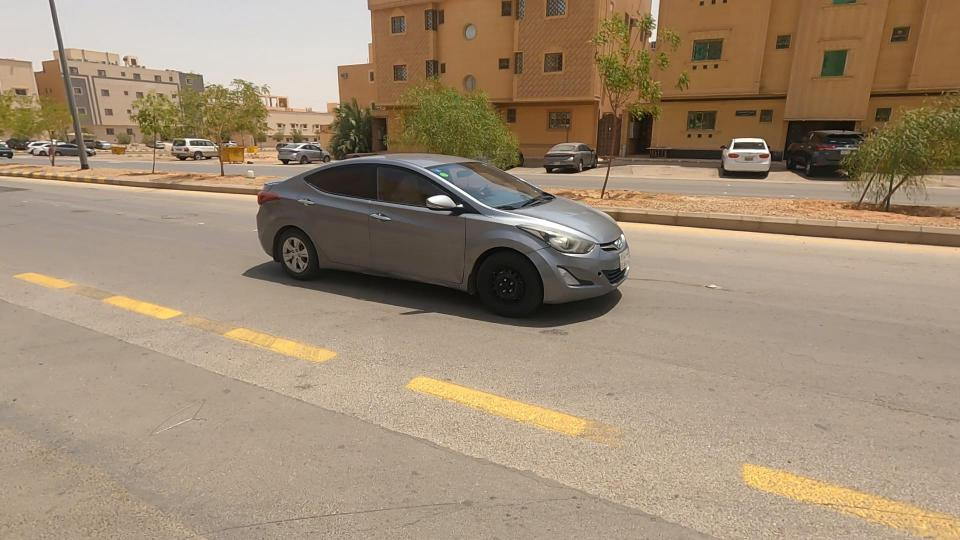GARBAGE: (209, 142, 293, 205)
